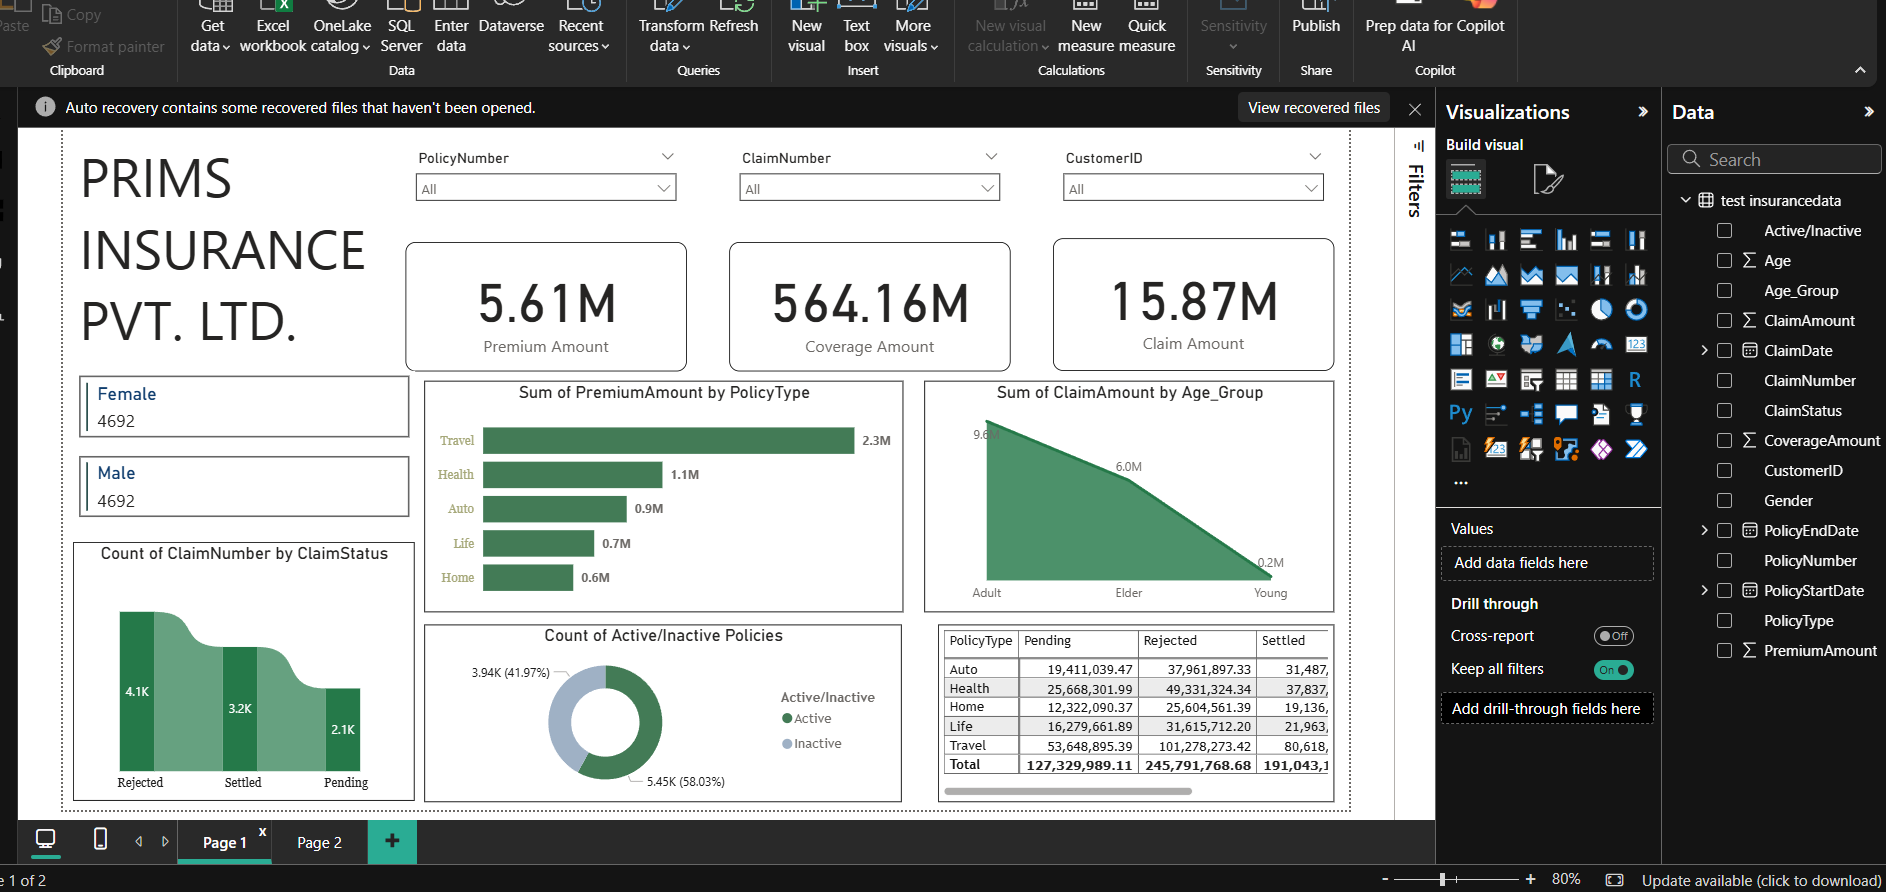

The dashboard page shown, as its layout file describes it:
{"tool":"powerbi","page":{"name":"Page 1","canvas":[1280,720],"ordinal":0},"visuals":[{"type":"slicer","fields":{"Values":["test insurancedata.CustomerID"]},"box":[985.3,57.6,279.9,76.8],"z":0},{"type":"slicer","fields":{"Values":["test insurancedata.PolicyNumber"]},"box":[340.3,57.6,279.9,76.8],"z":1000},{"type":"slicer","fields":{"Values":["test insurancedata.ClaimNumber"]},"box":[662.8,57.6,279.9,76.8],"z":2000},{"type":"textbox","box":[11,46.7,319.7,236],"z":3000},{"type":"card","fields":{"Values":["Sum(test insurancedata.PremiumAmount)"]},"box":[340.3,153.7,279.9,129],"z":4000},{"type":"card","fields":{"Values":["Sum(test insurancedata.CoverageAmount)"]},"box":[662.8,153.7,279.9,129],"z":5000},{"type":"card","fields":{"Values":["Sum(test insurancedata.ClaimAmount)"]},"box":[985.3,150.9,279.9,131.7],"z":6000},{"type":"ribbonChart","fields":{"Category":["test insurancedata.ClaimStatus"],"Y":["CountNonNull(test insurancedata.ClaimNumber)"]},"box":[10,452.8,339.6,257.5],"z":7000},{"type":"multiRowCard","fields":{"Values":["test insurancedata.Gender","CountNonNull(test insurancedata.Gender)"]},"box":[11,282.7,338.9,170.2],"z":8000},{"type":"barChart","fields":{"Category":["test insurancedata.PolicyType"],"Y":["Sum(test insurancedata.PremiumAmount)"]},"box":[359.5,292.3,476.4,230.1],"z":9000},{"type":"lineChart","fields":{"Y":["Sum(test insurancedata.ClaimAmount)"],"Category":["test insurancedata.Age_Group"]},"box":[857.1,292.3,408,230.1],"z":10000},{"type":"donutChart","title":"Count of Active/Inactive Policies","fields":{"Category":["test insurancedata.Active/Inactive"],"Y":["CountNonNull(test insurancedata.Active/Inactive)"]},"box":[359.5,534.9,475.2,176.6],"z":11000},{"type":"pivotTable","fields":{"Values":["Sum(test insurancedata.CoverageAmount)"],"Rows":["test insurancedata.PolicyType"],"Columns":["test insurancedata.ClaimStatus"]},"box":[870.8,534.9,394.3,176.6],"z":12000}]}

Visuals, with their boxes on the page's 1280x720 design canvas (x1, y1, x2, y2). These are canvas units, not pixel positions in the 1886x892 screenshot, which may show the page scaled, cropped or inside an application window:
slicer - test insurancedata.CustomerID: bbox=[985, 58, 1265, 134]
slicer - test insurancedata.PolicyNumber: bbox=[340, 58, 620, 134]
slicer - test insurancedata.ClaimNumber: bbox=[663, 58, 943, 134]
textbox: bbox=[11, 47, 331, 283]
card - Sum(test insurancedata.PremiumAmount): bbox=[340, 154, 620, 283]
card - Sum(test insurancedata.CoverageAmount): bbox=[663, 154, 943, 283]
card - Sum(test insurancedata.ClaimAmount): bbox=[985, 151, 1265, 283]
ribbonChart - test insurancedata.ClaimStatus x CountNonNull(test insurancedata.ClaimNumber): bbox=[10, 453, 350, 710]
multiRowCard - test insurancedata.Gender x CountNonNull(test insurancedata.Gender): bbox=[11, 283, 350, 453]
barChart - test insurancedata.PolicyType x Sum(test insurancedata.PremiumAmount): bbox=[360, 292, 836, 522]
lineChart - Sum(test insurancedata.ClaimAmount) x test insurancedata.Age_Group: bbox=[857, 292, 1265, 522]
"Count of Active/Inactive Policies" donutChart: bbox=[360, 535, 835, 712]
pivotTable - Sum(test insurancedata.CoverageAmount) x test insurancedata.PolicyType: bbox=[871, 535, 1265, 712]
